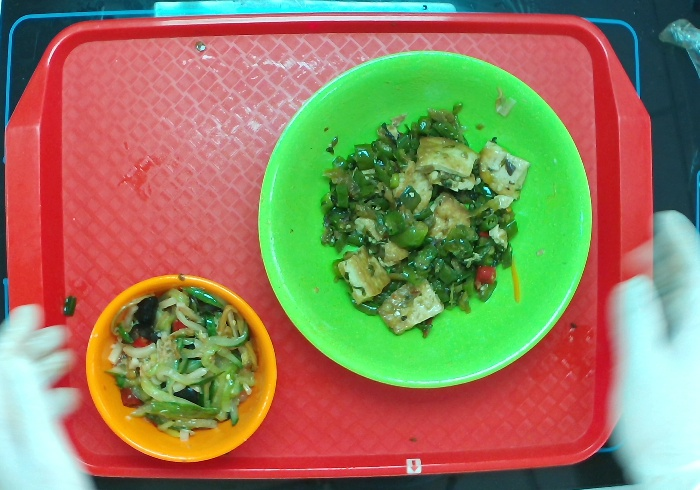YKMZ-Ju_Se_Yuan_Wan: (84, 273, 279, 466)
YKMZ-Lv_Se_Tang_Wan: (257, 49, 596, 389)
